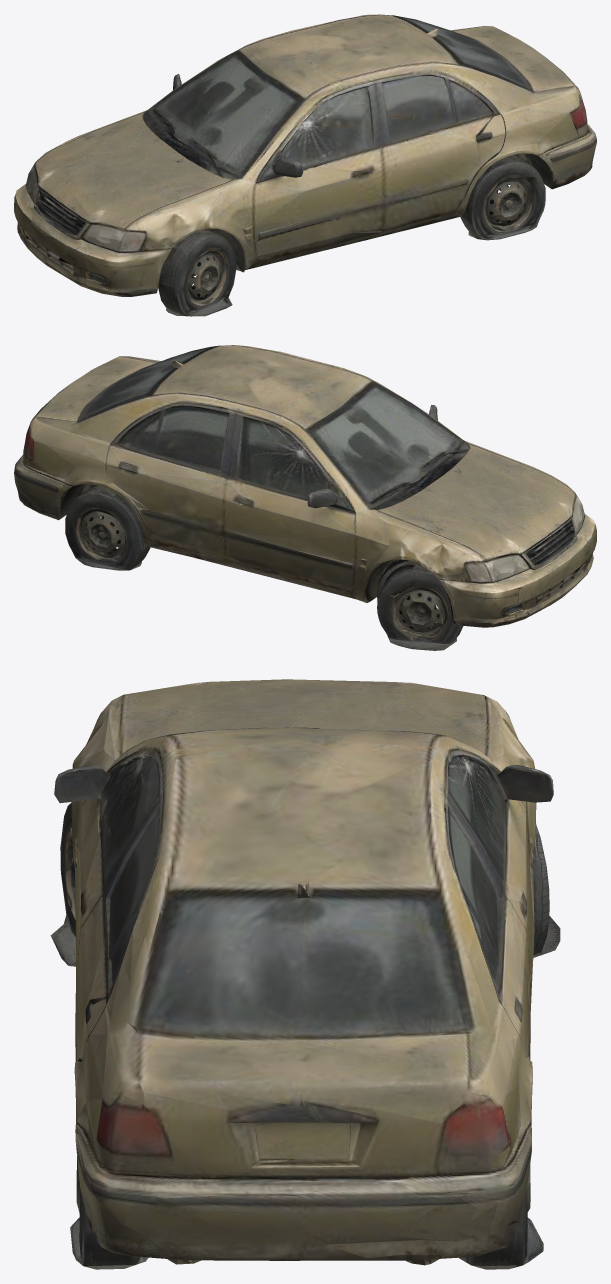
Rendered from sedan.glb.
The picture shows the model from 3 angles, top to bottom: view 1: azimuth 30°, elevation 25°; view 2: azimuth 150°, elevation 25°; view 3: azimuth 270°, elevation 25°; orthographic projection. The views are drawn at different scales.
Bounding box in the file's own units: 1.9 × 0.6152 × 0.8159.
Materials: 1 (1 with a texture image).
